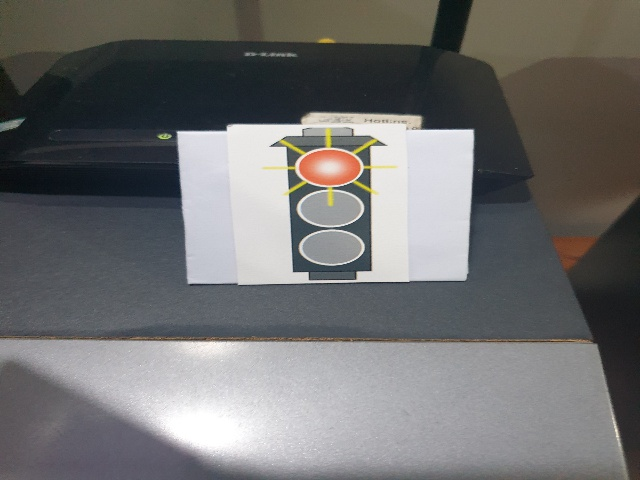Red Light: (266, 127, 396, 286)
